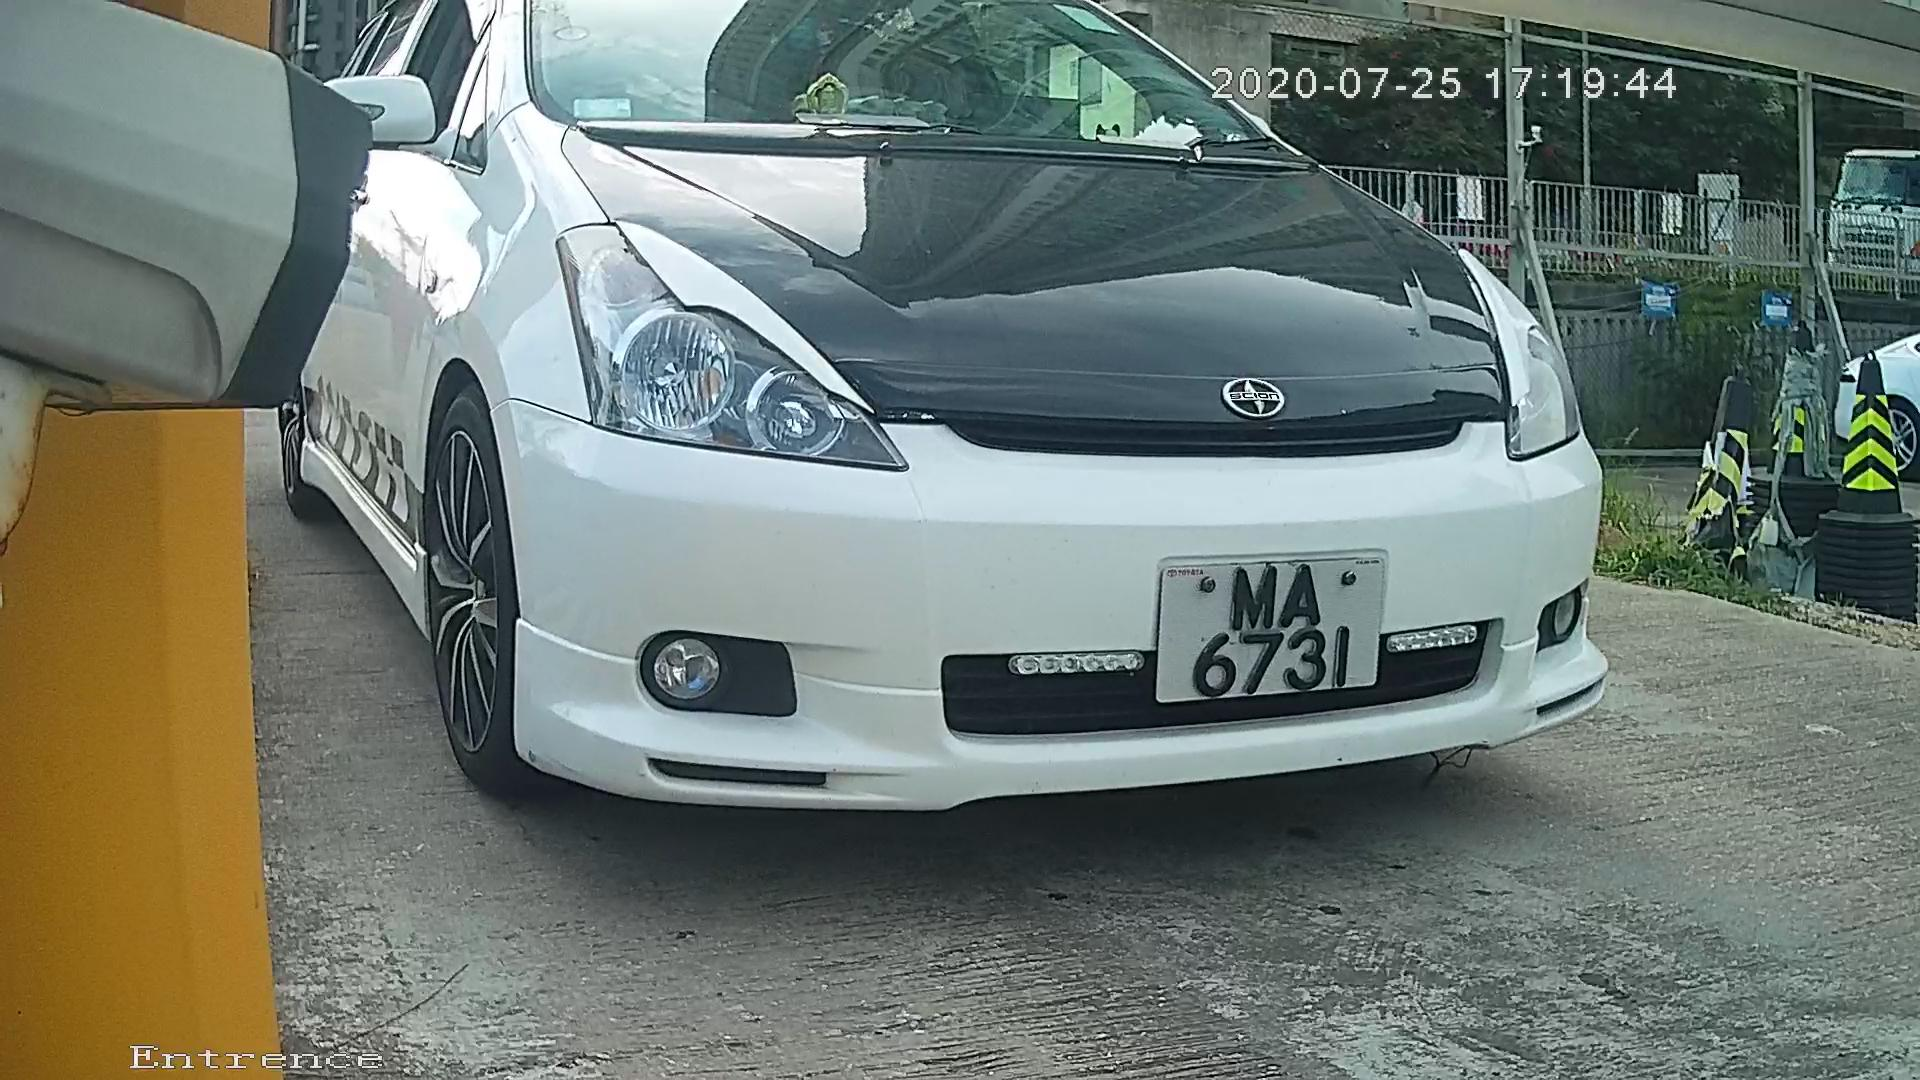License Plate: (1106, 541, 1415, 724)
